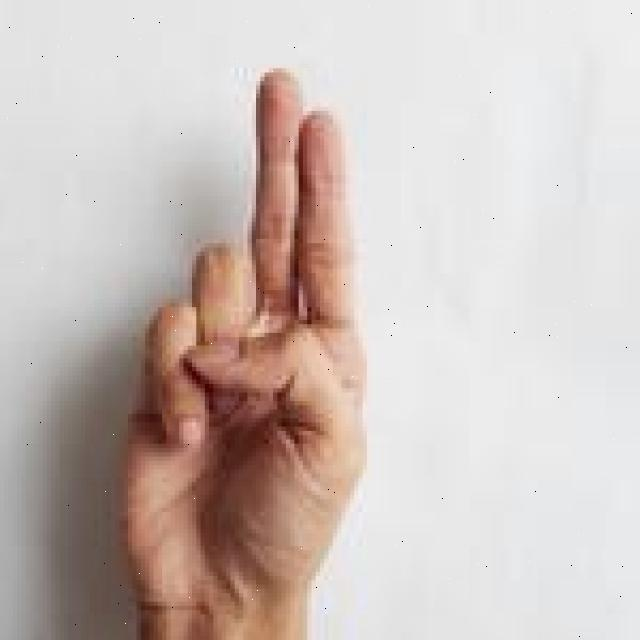U: (111, 62, 375, 640)
